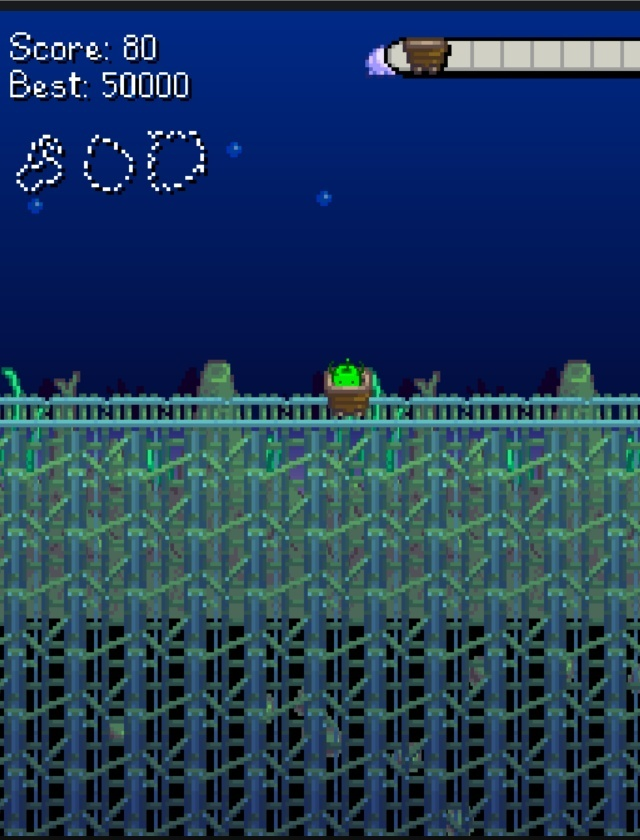minecart: (324, 359, 370, 417)
tracks: (0, 388, 312, 435), (380, 390, 640, 438)
